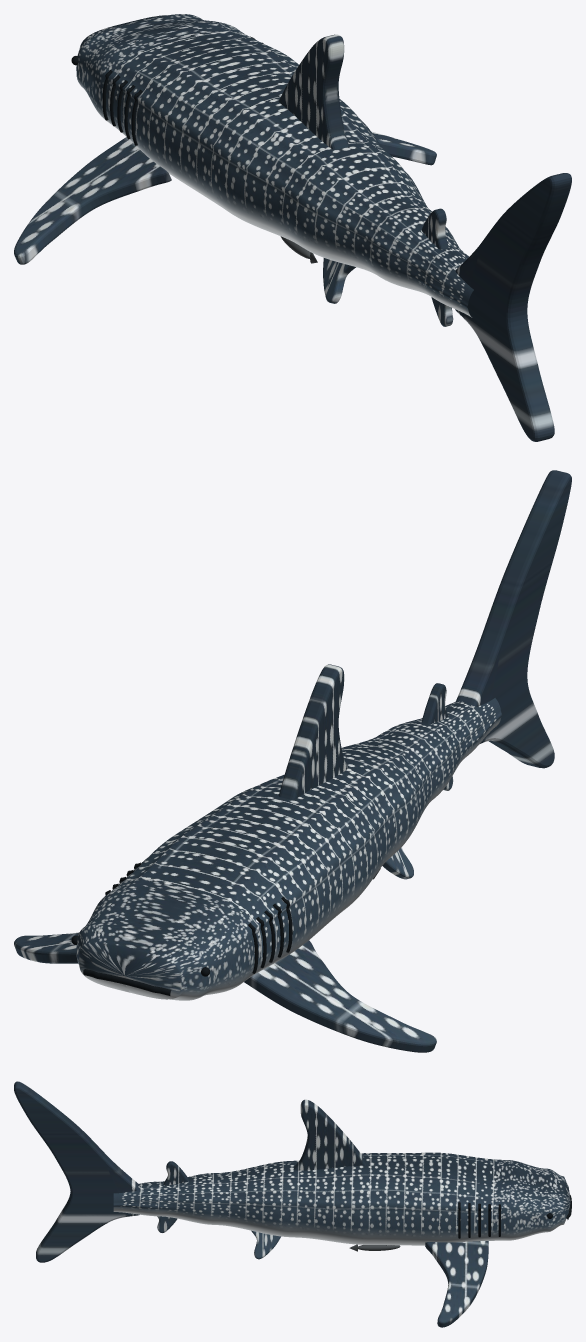
The model's file is whaleshark.glb.
3 views of the same model, one above another, from view 1: azimuth 30°, elevation 25°; view 2: azimuth 150°, elevation 25°; view 3: azimuth 270°, elevation 25° (orthographic). The views are drawn at different scales.
Visible parts, largest first — view 1: whaleshark_body, whaleshark_details; view 2: whaleshark_body, whaleshark_details; view 3: whaleshark_body, whaleshark_details.
Boxes of the visible parts, <box> form: whaleshark_body: <box>14,14,571,441</box>; whaleshark_details: <box>71,36,263,145</box>; whaleshark_body: <box>14,470,571,1052</box>; whaleshark_details: <box>71,862,292,995</box>; whaleshark_body: <box>14,1081,570,1327</box>; whaleshark_details: <box>458,1195,571,1238</box>.
Size of the model in its own units: 7.61 by 4.92 by 13.79.
Materials: 3 (1 with a texture image).
